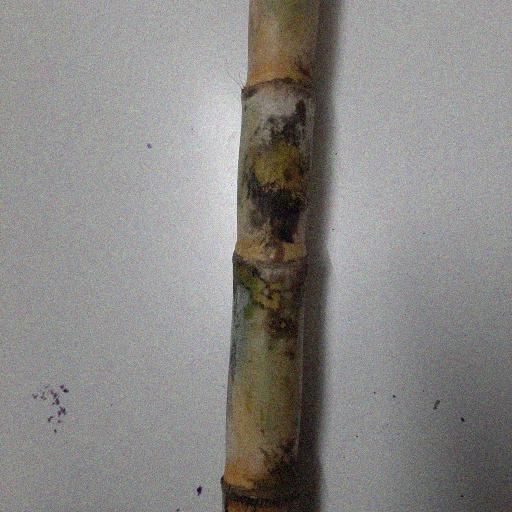Bud: (265, 244, 284, 263)
